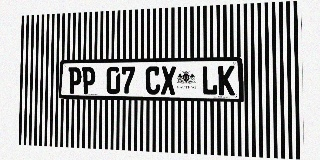0: (106, 67, 120, 94)
7: (121, 66, 135, 94)
C: (145, 66, 160, 95)
K: (218, 65, 235, 95)
L: (202, 66, 218, 95)
P: (68, 67, 82, 94), (82, 67, 95, 94)
X: (161, 66, 176, 95)
